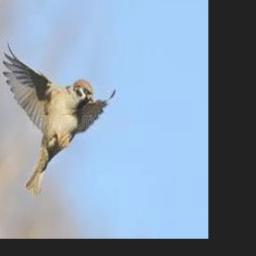Sparrow: (4, 42, 116, 196)
